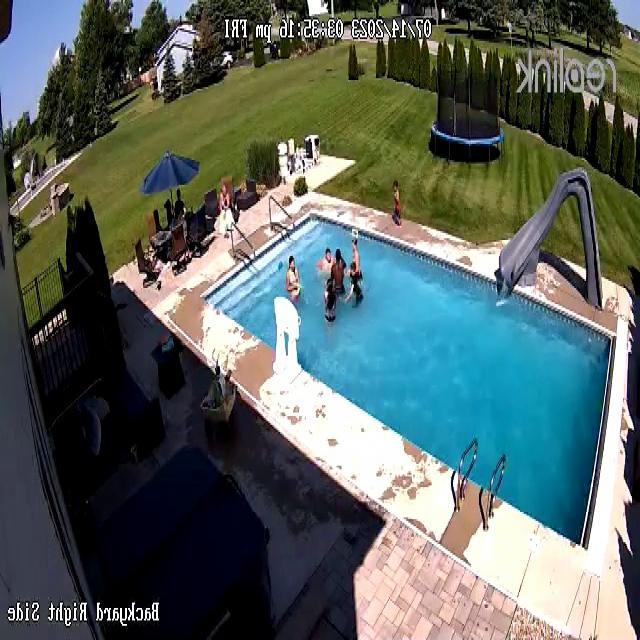child: (286, 256, 300, 302), (333, 251, 345, 300)
